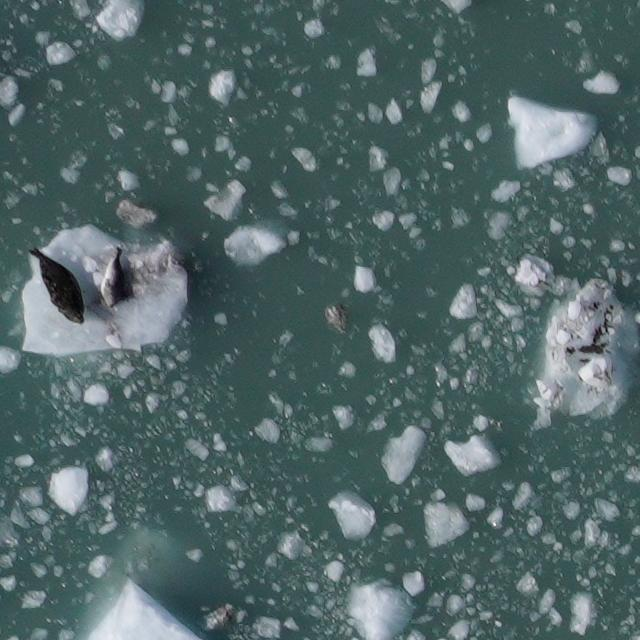seal: (25, 235, 96, 334), (95, 245, 131, 312)
